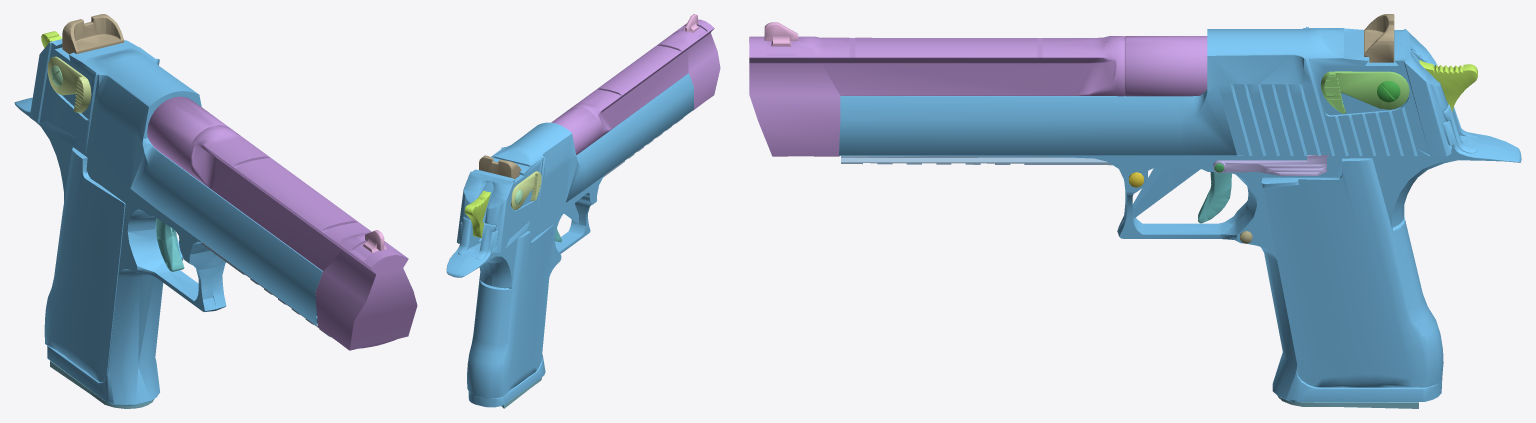
3 views of the same model, side by side, from view 1: azimuth 30°, elevation 25°; view 2: azimuth 150°, elevation 25°; view 3: azimuth 270°, elevation 25° (orthographic). The views are drawn at different scales.
Parts seen in each view (by area): view 1: split_parent_1, Object_2.013, Object_2.002, split_parent_11, Object_2.036, Object_2, Object_3.163; view 2: split_parent_1, Object_2.013, Object_2.096, Object_2.002, split_parent_11; view 3: split_parent_1, Object_2.013, split_parent_10, split_parent_4, Object_2.018, Object_2.002, Object_2.096, Object_2.036, Object_2.
Boxes of the visible parts, x1,y1,x2,y2 form: split_parent_1: (14,39,322,405); Object_2.013: (147,96,417,350); Object_2.002: (62,14,124,54); split_parent_11: (47,56,91,113); Object_2.036: (156,218,184,271); Object_2: (50,361,154,408); Object_3.163: (363,230,386,252); split_parent_1: (446,73,693,407); Object_2.013: (551,19,720,154); Object_2.096: (464,190,490,237); Object_2.002: (479,155,521,178); split_parent_11: (511,171,541,209); split_parent_1: (839,26,1521,402); Object_2.013: (749,36,1207,156); split_parent_10: (1320,71,1409,113); split_parent_4: (841,156,1112,165); Object_2.018: (1213,155,1329,175); Object_2.002: (1364,14,1394,62); Object_2.096: (1419,60,1477,112); Object_2.036: (1198,172,1231,223); Object_2: (1277,395,1418,408).
Bounding box in the file's own units: 0.1142 × 0.5337 × 1.
